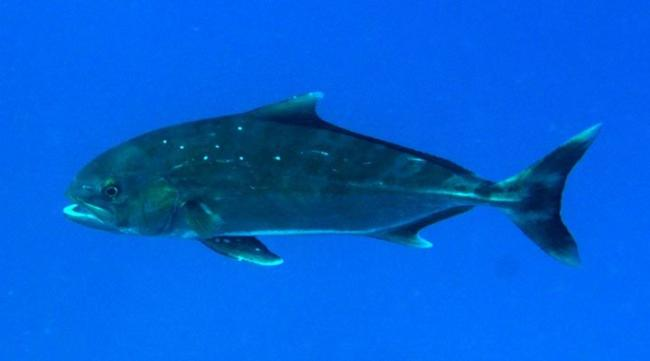fish: (61, 90, 604, 269)
